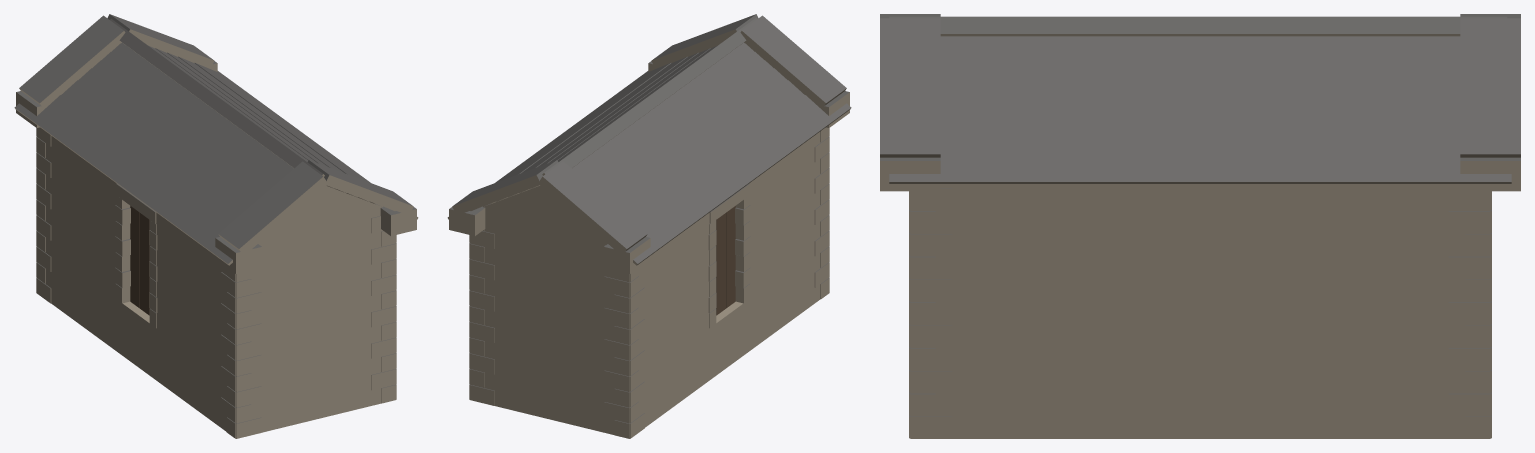
Rendered from context.dales.barn_03.glb.
3 views of the same model, side by side, from view 1: azimuth 30°, elevation 25°; view 2: azimuth 150°, elevation 25°; view 3: azimuth 270°, elevation 25° (orthographic). The views are drawn at different scales.
Visible parts, largest first — view 1: main__stone_a98, main__slate_666, main__paint_654; view 2: main__stone_a98, main__slate_666, main__paint_654; view 3: main__stone_a98, main__slate_666.
Part boxes in pixels (x1,y1,x2,y2): main__stone_a98: [15, 29, 417, 438]; main__slate_666: [14, 14, 417, 423]; main__paint_654: [130, 206, 149, 315]; main__stone_a98: [448, 29, 850, 438]; main__slate_666: [448, 14, 851, 423]; main__paint_654: [716, 206, 735, 315]; main__stone_a98: [880, 34, 1520, 438]; main__slate_666: [880, 14, 1520, 416].
Size of the model in its own units: 3.81 by 4.81 by 7.63.
